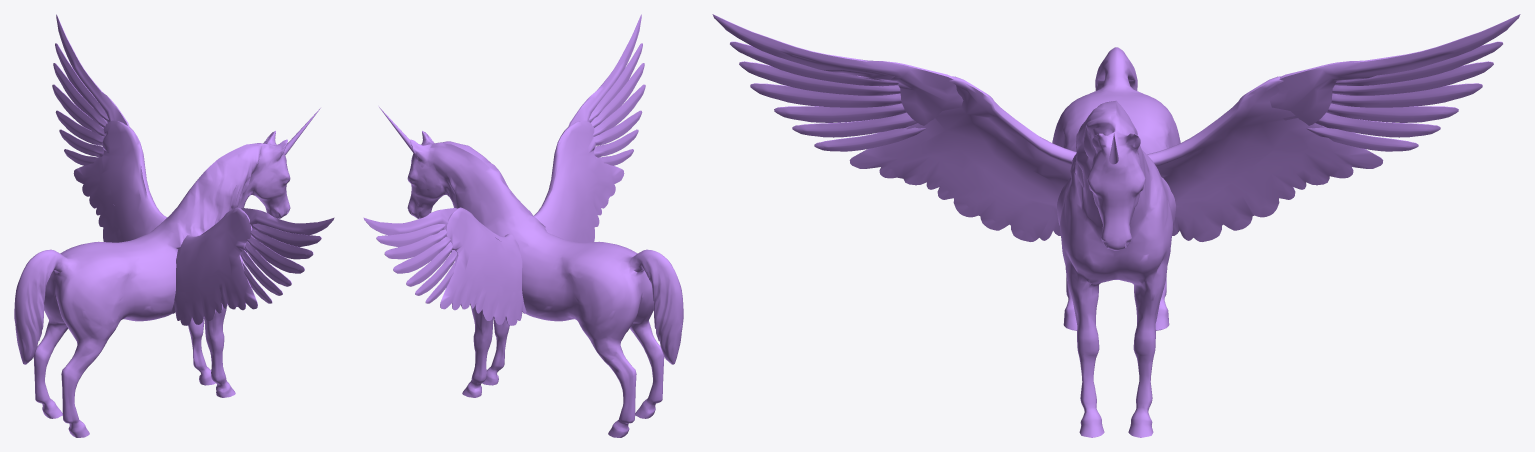
The model's file is pegasus_unicorn.fbx.
3 renders of one model, left to right at view 1: azimuth 30°, elevation 25°; view 2: azimuth 150°, elevation 25°; view 3: azimuth 270°, elevation 25°, orthographic. The views are drawn at different scales.
Visible parts, largest first — view 1: instance_5, ID29, group_0, ID107, ID71, ID113, ID41, ID101, ID35, ID47, ID95, ID53 (+4 smaller); view 2: instance_5, group_0, ID29, ID71, ID107, ID35, ID101, ID41, ID113, ID95, ID47, ID53 (+4 smaller); view 3: instance_5, group_0, ID29, ID107, ID71, ID47, ID95, ID101, ID41, ID53, ID89, ID35 (+5 smaller).
Part boxes in pixels (x1,y1,x2,y2): instance_5: (14, 131, 290, 437); ID29: (171, 207, 257, 325); group_0: (73, 120, 166, 242); ID107: (56, 14, 129, 126); ID71: (241, 208, 334, 252); ID113: (55, 43, 108, 121); ID41: (250, 229, 313, 259); ID101: (53, 63, 107, 127); ID35: (252, 223, 321, 247); ID47: (246, 236, 304, 273); ID95: (52, 84, 104, 136); ID53: (245, 241, 291, 286); instance_5: (407, 131, 683, 437); group_0: (440, 207, 526, 325); ID29: (533, 120, 624, 242); ID71: (568, 14, 641, 126); ID107: (363, 208, 456, 252); ID35: (588, 43, 642, 121); ID101: (384, 229, 447, 259); ID41: (590, 63, 644, 127); ID113: (376, 224, 445, 247); ID95: (393, 236, 450, 273); ID47: (592, 84, 645, 136); ID53: (593, 110, 642, 145); instance_5: (1052, 47, 1180, 437); group_0: (1147, 76, 1383, 241); ID29: (849, 76, 1076, 241); ID107: (1269, 14, 1520, 125); ID71: (712, 14, 963, 125); ID47: (750, 83, 901, 107); ID95: (1331, 83, 1482, 107); ID101: (1332, 61, 1493, 95); ID41: (739, 61, 900, 95); ID53: (774, 103, 906, 122); ID89: (1326, 103, 1458, 122); ID35: (730, 41, 898, 86).
Size of the model in its own units: 273 by 431 by 238.
